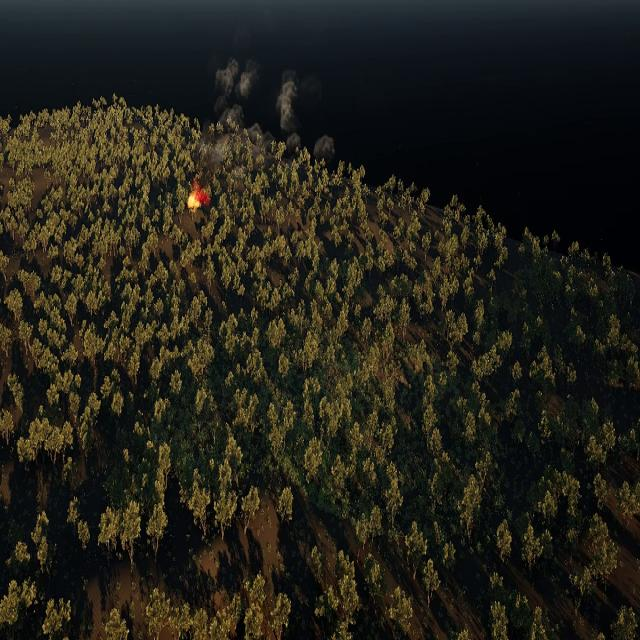fire: (190, 188, 209, 211)
smoke: (199, 59, 333, 192)
